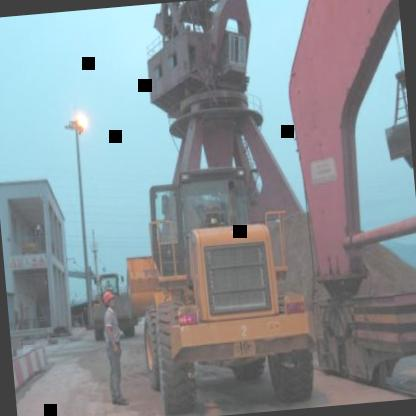helmet: (101, 288, 117, 312)
